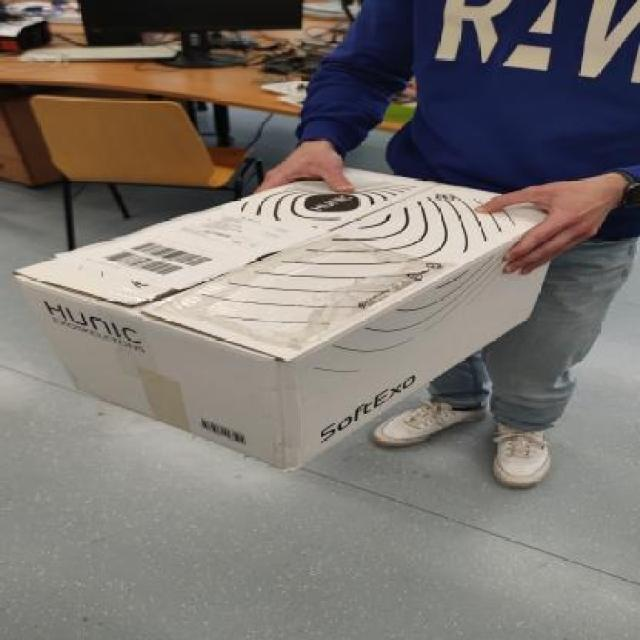box: (18, 163, 565, 485)
